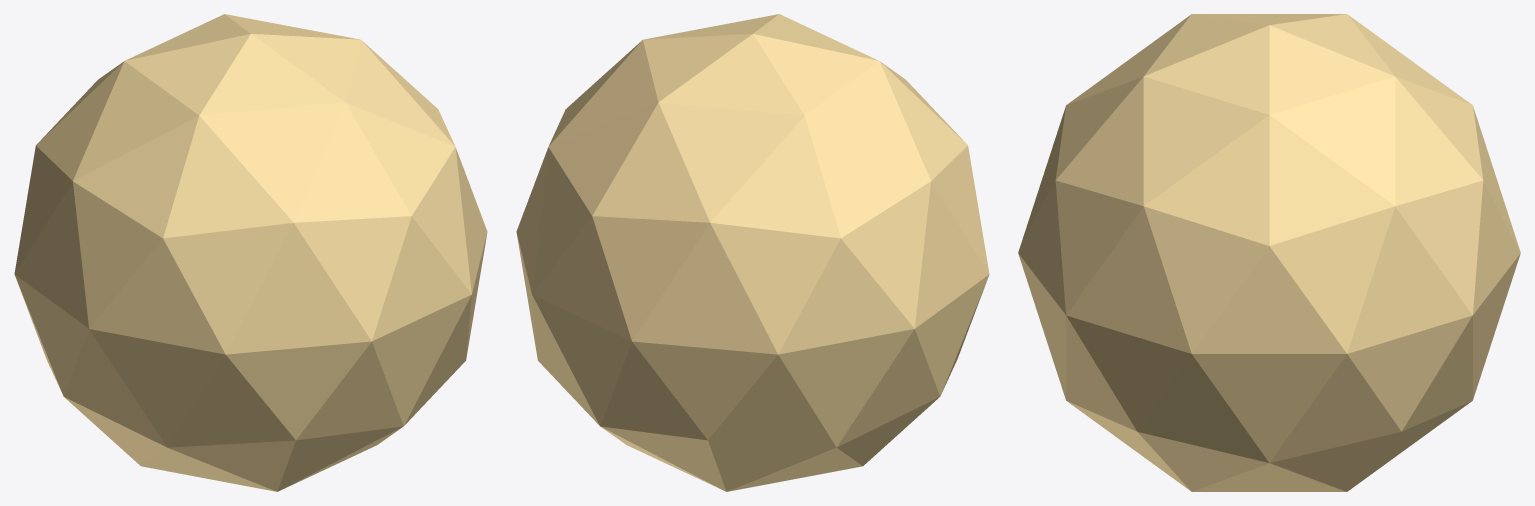
Rendered from luna.opt.glb.
The picture shows the model from 3 angles, left to right: view 1: azimuth 30°, elevation 25°; view 2: azimuth 150°, elevation 25°; view 3: azimuth 270°, elevation 25°; orthographic projection. The views are drawn at different scales.
Parts seen in each view (by area): view 1: Aura; view 2: Aura; view 3: Aura.
Boxes of the visible parts, bbox=[...] form: Aura: bbox=[14, 14, 487, 491]; Aura: bbox=[516, 14, 989, 491]; Aura: bbox=[1018, 14, 1520, 491].
Bounding box in the file's own units: 1.9 × 2 × 2.
